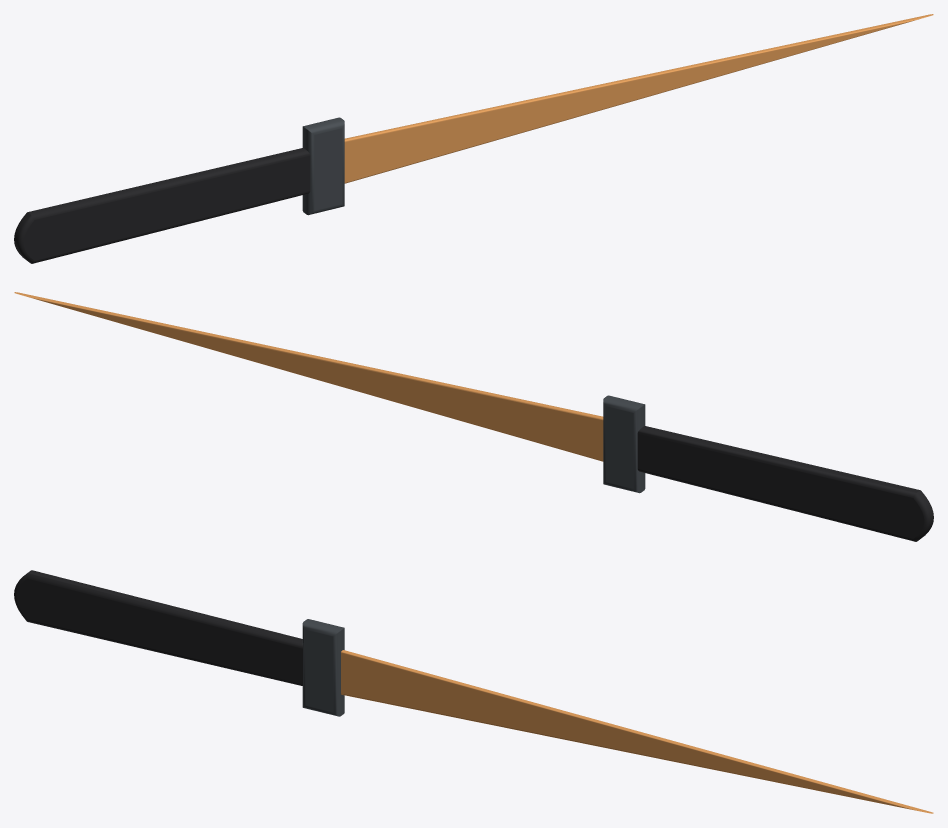
File: stiletto.glb
3 renders of one model, top to bottom at view 1: azimuth 30°, elevation 25°; view 2: azimuth 150°, elevation 25°; view 3: azimuth 330°, elevation 25°, orthographic.
Parts seen in each view (by area): view 1: poly_2, paint_0, metal_1; view 2: poly_2, paint_0, metal_1; view 3: poly_2, paint_0, metal_1.
Part boxes in pixels (x1,y1,x2,y2): poly_2: [14, 148, 310, 263]; paint_0: [344, 14, 933, 183]; metal_1: [302, 117, 344, 215]; poly_2: [637, 426, 933, 541]; paint_0: [14, 292, 603, 461]; metal_1: [603, 395, 645, 493]; poly_2: [14, 570, 302, 685]; paint_0: [341, 650, 933, 813]; metal_1: [302, 619, 344, 716].
Bounding box in the file's own units: 329 × 29.31 × 5.52.
